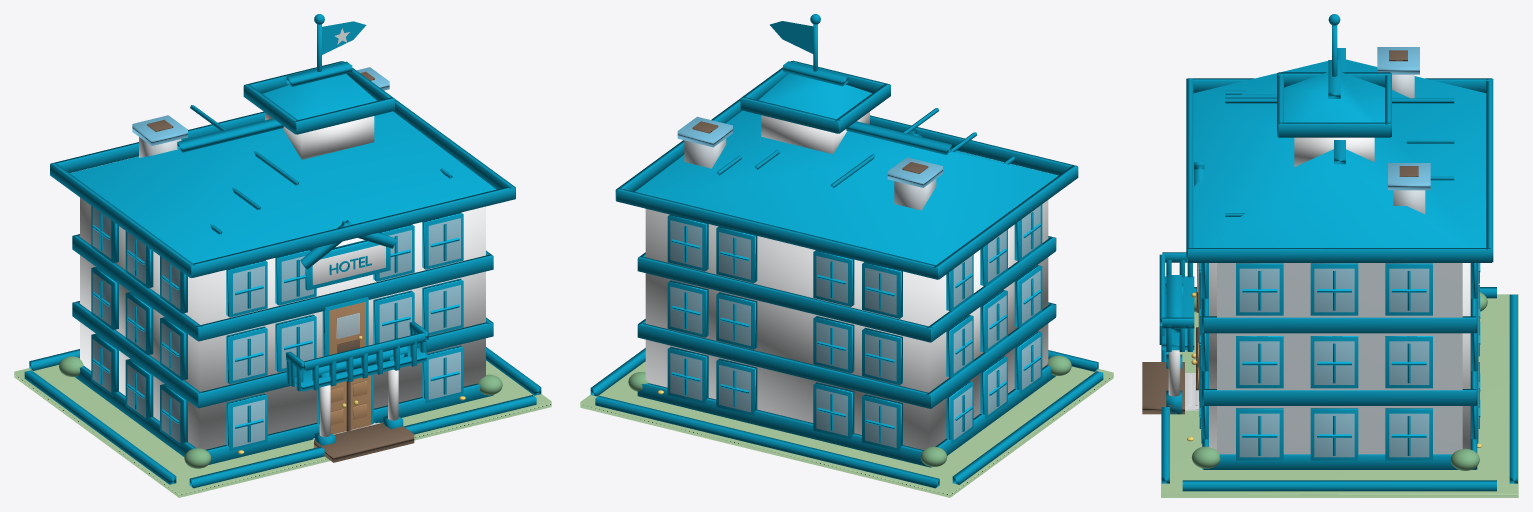
File: hotel_detallado_darkBlue.glb
3 views of the same model, side by side, from view 1: azimuth 30°, elevation 25°; view 2: azimuth 150°, elevation 25°; view 3: azimuth 270°, elevation 25° (orthographic). The views are drawn at different scales.
Parts seen in each view (by area): view 1: Hotel_Techo_Principal, Hotel_Cuerpo_Principal, Hotel_Grama_Base, Hotel_Techo_Principal_Fascia_Frontal, Hotel_Zocalo_Frontal_Nivel_3, Hotel_Torre_Central_Techo, Hotel_Zocalo_Frontal_Nivel_1, Hotel_Zocalo_Frontal_Nivel_2, Hotel_Techo_Principal_Fascia_Izquierda, Hotel_Torre_Central_Pared, Hotel_Entrada_Escalon, Hotel_Zocalo_Izquierdo_Nivel_3 (+57 smaller); view 2: Hotel_Techo_Principal, Hotel_Cuerpo_Principal, Hotel_Grama_Base, Hotel_Zocalo_Trasero_Nivel_3, Hotel_Zocalo_Trasero_Nivel_2, Hotel_Techo_Principal_Fascia_Trasera, Hotel_Borde_Base_Trasero, Hotel_Zocalo_Trasero_Nivel_1, Hotel_Torre_Central_Techo, Hotel_Techo_Principal_Fascia_Izquierda, Hotel_Techo_Principal_Fascia_Frontal, Hotel_Zocalo_Izquierdo_Nivel_3 (+54 smaller); view 3: Hotel_Techo_Principal, Hotel_Pared_Lateral_Azulada, Hotel_Grama_Base, Hotel_Zocalo_Derecho_Nivel_3, Hotel_Techo_Principal_Fascia_Derecha, Hotel_Zocalo_Derecho_Nivel_2, Hotel_Torre_Central_Techo, Hotel_Borde_Base_Lateral_Derecho, Hotel_Zocalo_Derecho_Nivel_1, Hotel_Cuerpo_Principal, Hotel_Torre_Central_Techo_Fascia_Derecha, Hotel_Borde_Base_Trasero (+38 smaller).
Part boxes in pixels (x1,y1,x2,y2): Hotel_Techo_Principal: [70, 111, 496, 263]; Hotel_Cuerpo_Principal: [80, 197, 485, 449]; Hotel_Grama_Base: [14, 360, 551, 497]; Hotel_Techo_Principal_Fascia_Frontal: [189, 187, 515, 277]; Hotel_Zocalo_Frontal_Nivel_3: [196, 254, 493, 341]; Hotel_Torre_Central_Techo: [262, 74, 376, 119]; Hotel_Zocalo_Frontal_Nivel_1: [206, 383, 493, 464]; Hotel_Zocalo_Frontal_Nivel_2: [197, 321, 493, 408]; Hotel_Techo_Principal_Fascia_Izquierda: [50, 163, 195, 277]; Hotel_Torre_Central_Pared: [265, 112, 374, 159]; Hotel_Entrada_Escalon: [314, 423, 414, 462]; Hotel_Zocalo_Izquierdo_Nivel_3: [72, 235, 202, 340]; Hotel_Techo_Principal: [635, 110, 1058, 265]; Hotel_Cuerpo_Principal: [645, 200, 1048, 449]; Hotel_Grama_Base: [580, 361, 1113, 497]; Hotel_Zocalo_Trasero_Nivel_3: [637, 256, 932, 342]; Hotel_Zocalo_Trasero_Nivel_2: [637, 323, 930, 408]; Hotel_Techo_Principal_Fascia_Trasera: [616, 188, 937, 279]; Hotel_Borde_Base_Trasero: [595, 395, 939, 488]; Hotel_Zocalo_Trasero_Nivel_1: [637, 383, 930, 467]; Hotel_Torre_Central_Techo: [758, 73, 871, 119]; Hotel_Techo_Principal_Fascia_Izquierda: [934, 165, 1078, 279]; Hotel_Techo_Principal_Fascia_Frontal: [870, 115, 1077, 175]; Hotel_Zocalo_Izquierdo_Nivel_3: [927, 237, 1055, 342]; Hotel_Techo_Principal: [1193, 59, 1486, 247]; Hotel_Pared_Lateral_Azulada: [1217, 263, 1462, 454]; Hotel_Grama_Base: [1161, 294, 1518, 497]; Hotel_Zocalo_Derecho_Nivel_3: [1203, 316, 1475, 333]; Hotel_Techo_Principal_Fascia_Derecha: [1187, 248, 1491, 262]; Hotel_Zocalo_Derecho_Nivel_2: [1203, 389, 1475, 405]; Hotel_Torre_Central_Techo: [1284, 72, 1384, 122]; Hotel_Borde_Base_Lateral_Derecho: [1182, 480, 1496, 491]; Hotel_Zocalo_Derecho_Nivel_1: [1203, 454, 1475, 469]; Hotel_Cuerpo_Principal: [1209, 263, 1470, 449]; Hotel_Torre_Central_Techo_Fascia_Derecha: [1278, 122, 1390, 137]; Hotel_Borde_Base_Trasero: [1509, 294, 1517, 483].
Bounding box in the file's own units: 1.75 × 1.67 × 1.41.
